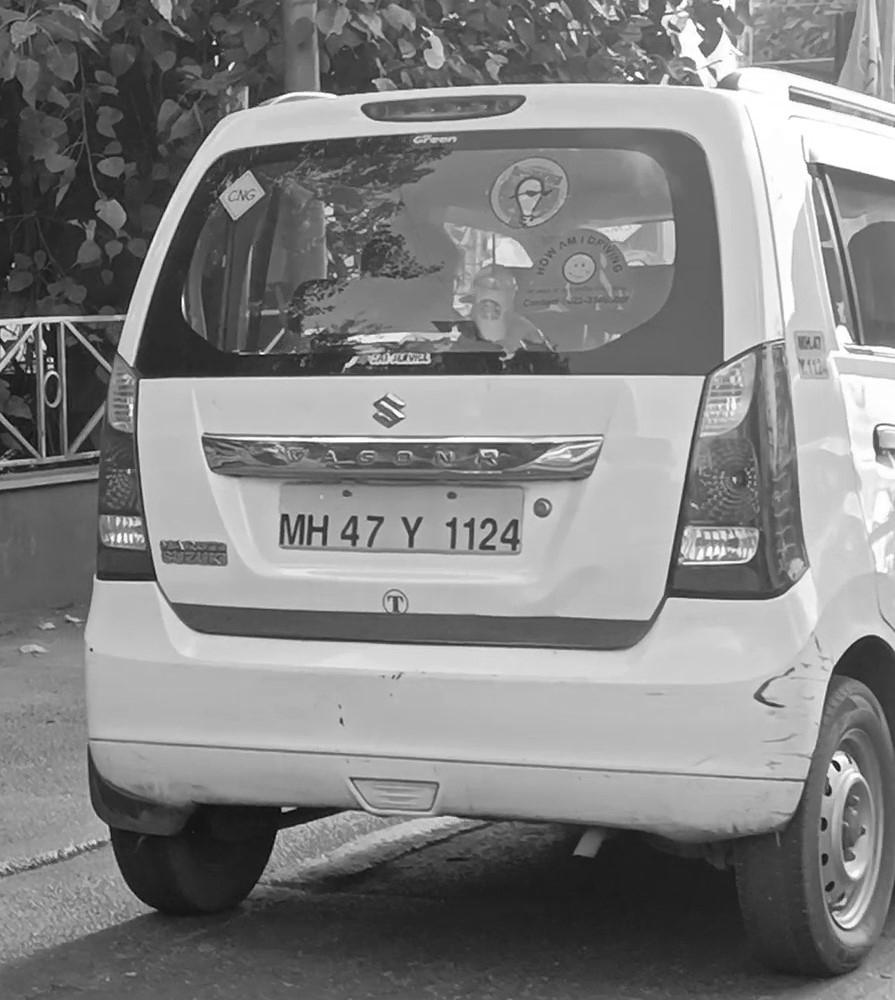number_plate: (273, 483, 525, 557)
